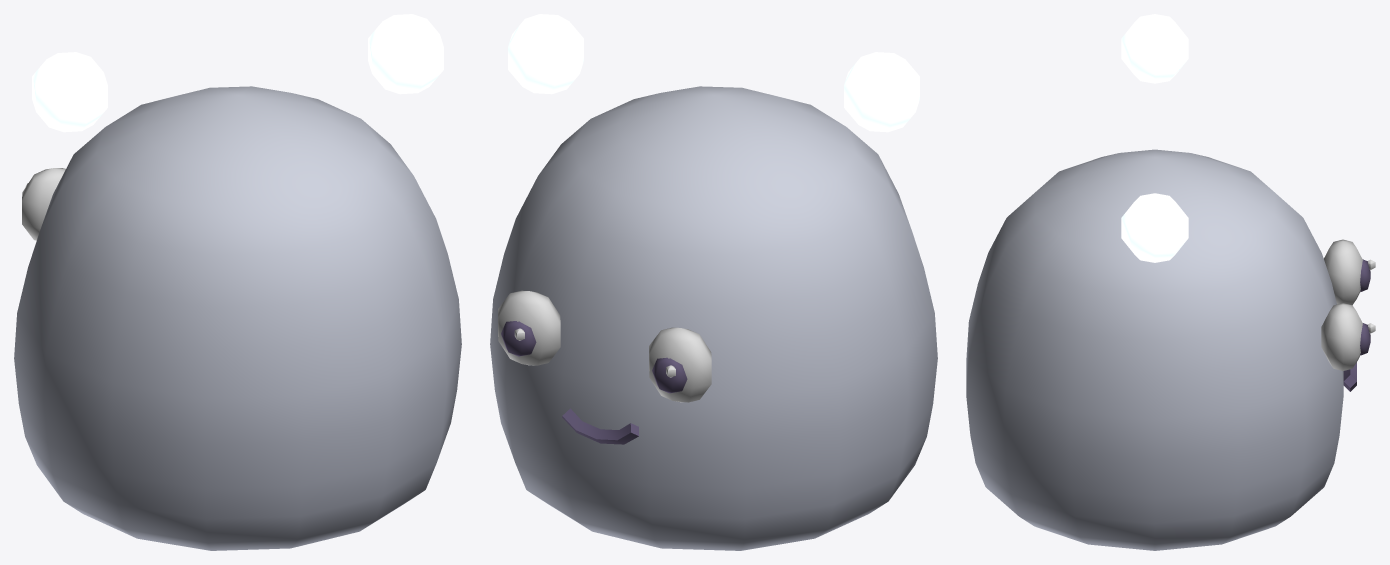
File: art_c_bubble.glb
3 renders of one model, left to right at view 1: azimuth 30°, elevation 25°; view 2: azimuth 150°, elevation 25°; view 3: azimuth 270°, elevation 25°, orthographic. The views are drawn at different scales.
Parts seen in each view (by area): view 1: Body, Glow_8FB4FF, Eye; view 2: Body, Glow_8FB4FF, Eye, Mouth; view 3: Body, Glow_8FB4FF, Eye.
Part boxes in pixels (left/top/right/bottom): Body: left=14, top=86, right=461, bottom=550; Glow_8FB4FF: left=32, top=14, right=443, bottom=132; Eye: left=22, top=168, right=65, bottom=240; Body: left=490, top=86, right=937, bottom=550; Glow_8FB4FF: left=508, top=14, right=919, bottom=132; Eye: left=498, top=290, right=711, bottom=402; Mouth: left=562, top=408, right=638, bottom=444; Body: left=966, top=149, right=1343, bottom=550; Glow_8FB4FF: left=1121, top=14, right=1188, bottom=262; Eye: left=1321, top=239, right=1375, bottom=370.
Size of the model in its own units: 0.9617 by 1.07 by 0.9793.
